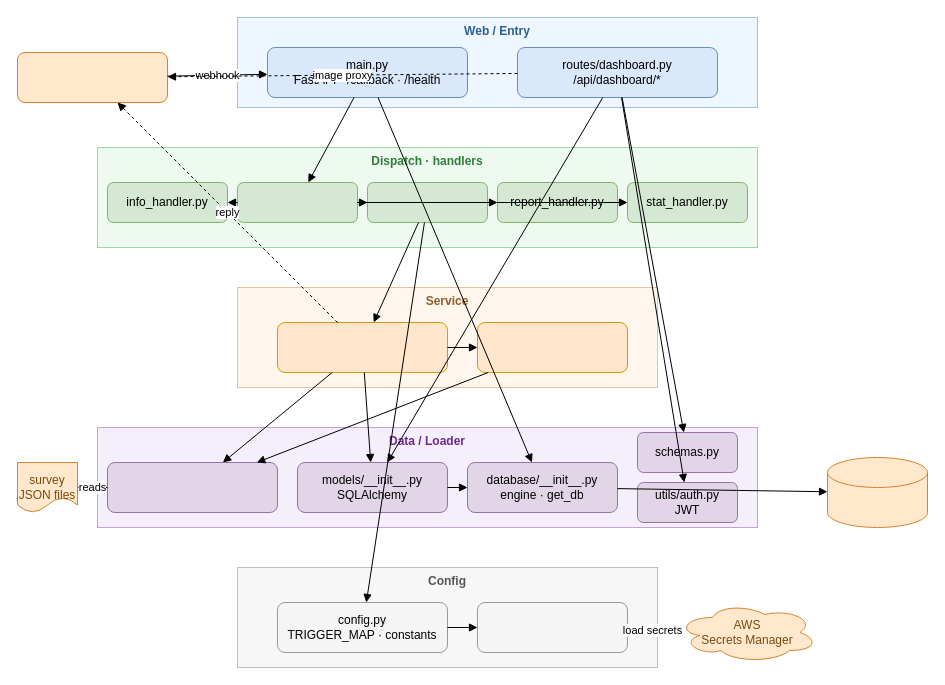
Image size: 945x685. Some labels were removed from this diagram. The centre of each missing label's shape, as x and y in pixels:
"chatbot_handler.py" belongs at [427,202].
"config_loader.py" belongs at [552,627].
"LINE Messaging API" belongs at [92,77].
"message_handler.py" belongs at [297,202].
"PostgreSQL + PostGIS" belongs at [877,492].
"routing.py pure routing" belongs at [552,347].
"survey_loader.py SurveyManager + schema" belongs at [192,487].
"survey_service.py DB + LINE IO" belongs at [362,347].
